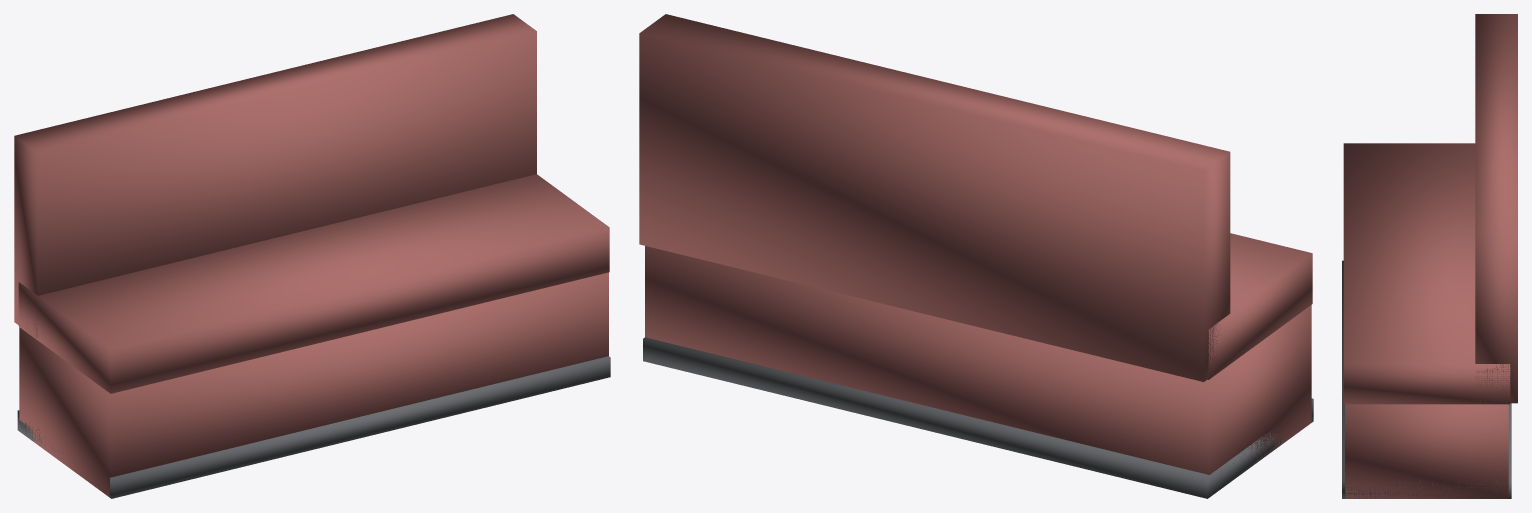
Rendered from diner_booth_double__deep.glb.
The picture shows the model from 3 angles, left to right: view 1: azimuth 30°, elevation 25°; view 2: azimuth 150°, elevation 25°; view 3: azimuth 270°, elevation 25°; orthographic projection. The views are drawn at different scales.
Parts seen in each view (by area): view 1: world; view 2: world; view 3: world.
Boxes of the visible parts, box(x1,y1,x2,y2) form: world: box(14, 14, 610, 498); world: box(639, 14, 1313, 498); world: box(1342, 14, 1517, 498).
Bounding box in the file's own units: 2.1 × 1.17 × 0.7076.
